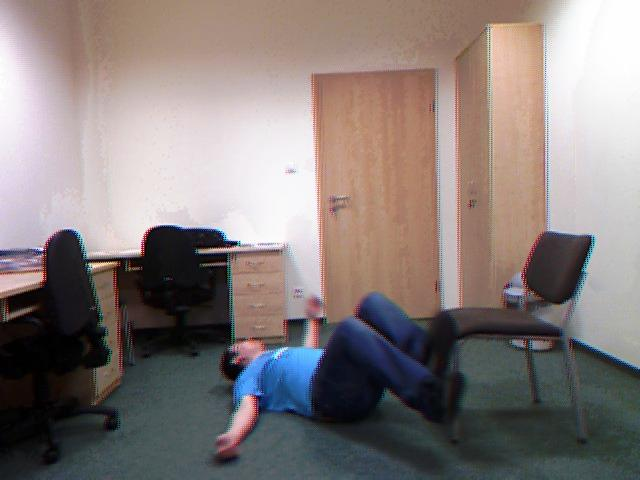fall: (206, 288, 469, 480)
